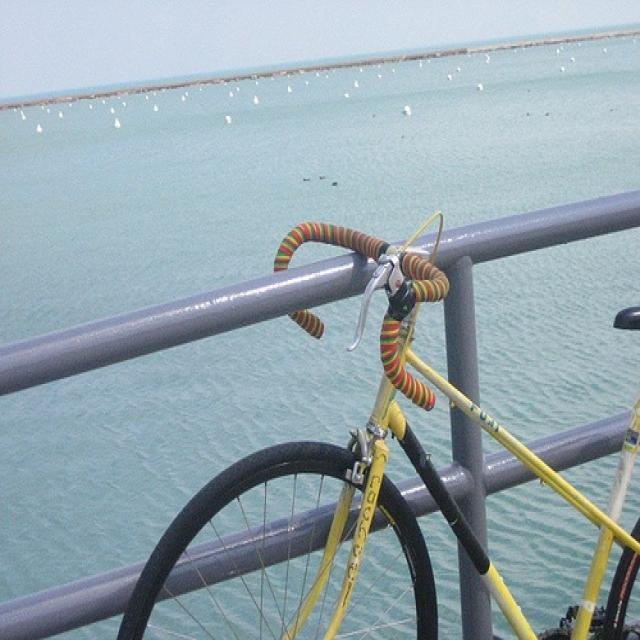bicycle: (115, 208, 639, 638)
